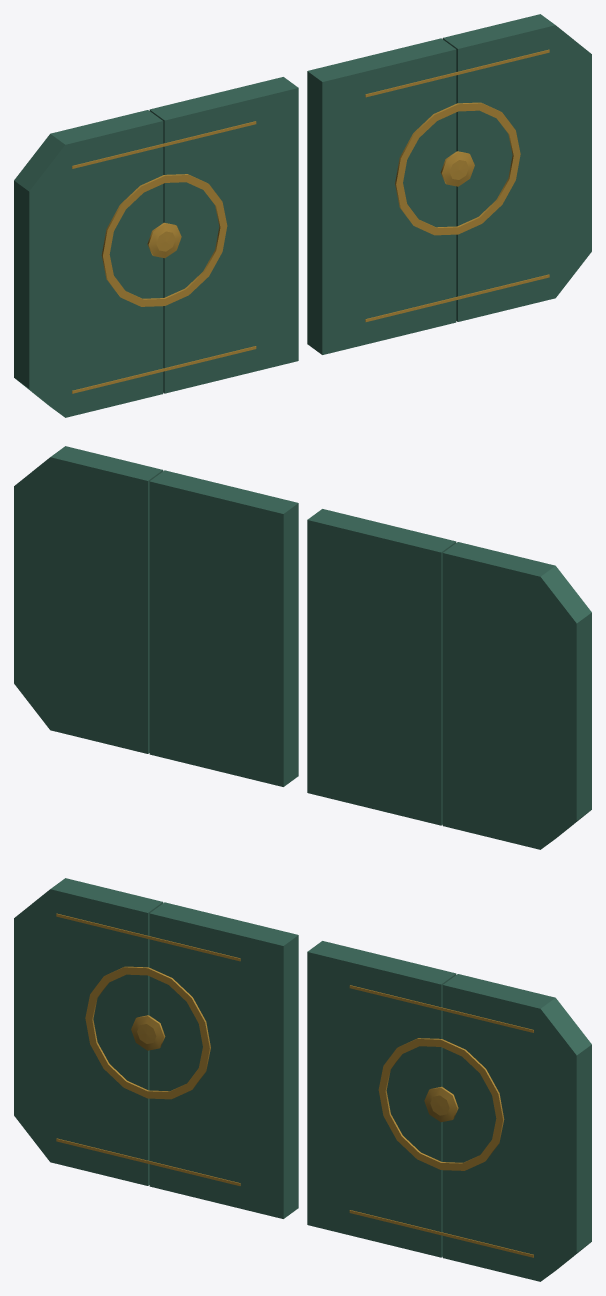
The model's file is hangar2_doors.obj.
The picture shows the model from 3 angles, top to bottom: view 1: azimuth 30°, elevation 25°; view 2: azimuth 150°, elevation 25°; view 3: azimuth 330°, elevation 25°; orthographic projection.
Visible parts, largest first — view 1: hangar2_doors; view 2: hangar2_doors; view 3: hangar2_doors.
Boxes of the visible parts, left/top/right/bottom form: hangar2_doors: left=14, top=14, right=591, bottom=417; hangar2_doors: left=14, top=446, right=591, bottom=849; hangar2_doors: left=14, top=878, right=591, bottom=1281.
Bounding box in the file's own units: 8.54 × 3.96 × 0.4565.
